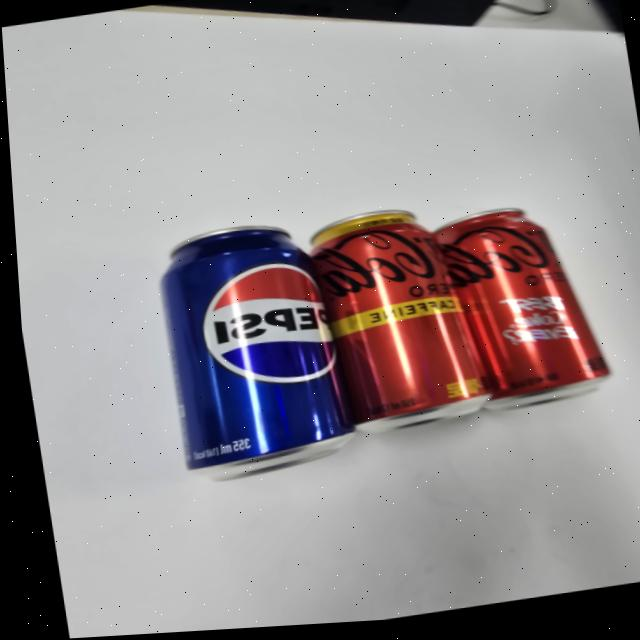can_coke_decaf: (305, 209, 490, 434)
can_coke_zero: (431, 206, 609, 411)
can_pepsi: (159, 224, 361, 482)
